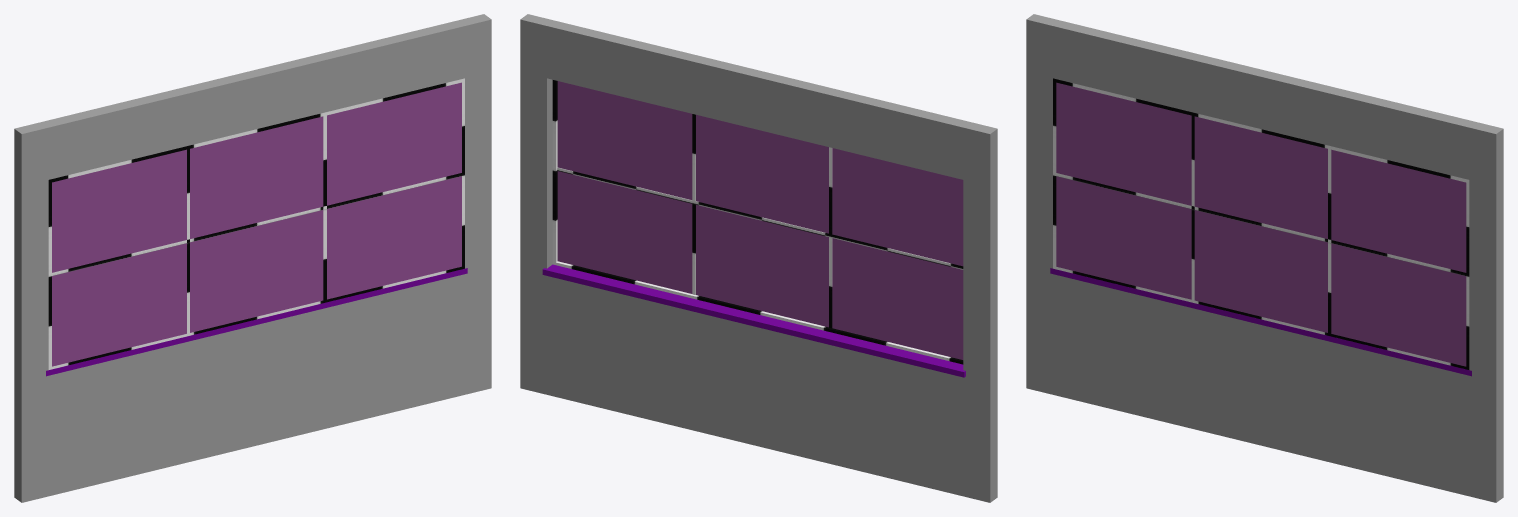
File: big window wall.fbx
3 views of the same model, side by side, from view 1: azimuth 30°, elevation 25°; view 2: azimuth 150°, elevation 25°; view 3: azimuth 330°, elevation 25° (orthographic).
Visible parts, largest first — view 1: wall, windows, white_plasticy, windowsill; view 2: wall, windows, white_plasticy, windowsill; view 3: wall, windows, white_plasticy, windowsill.
Boxes of the visible parts, x1,y1,x2,y2 form: wall: (14, 14, 491, 502); windows: (52, 82, 461, 366); white_plasticy: (48, 78, 464, 369); windowsill: (46, 268, 467, 376); wall: (520, 14, 997, 502); windows: (557, 81, 963, 359); white_plasticy: (552, 80, 963, 364); windowsill: (542, 264, 965, 377); wall: (1026, 14, 1503, 502); windows: (1056, 82, 1466, 366); white_plasticy: (1053, 78, 1469, 369); windowsill: (1050, 268, 1471, 376).
Size of the model in its own units: 3.66 by 2.74 by 0.1266.
Materials: 4 (1 with a texture image).
